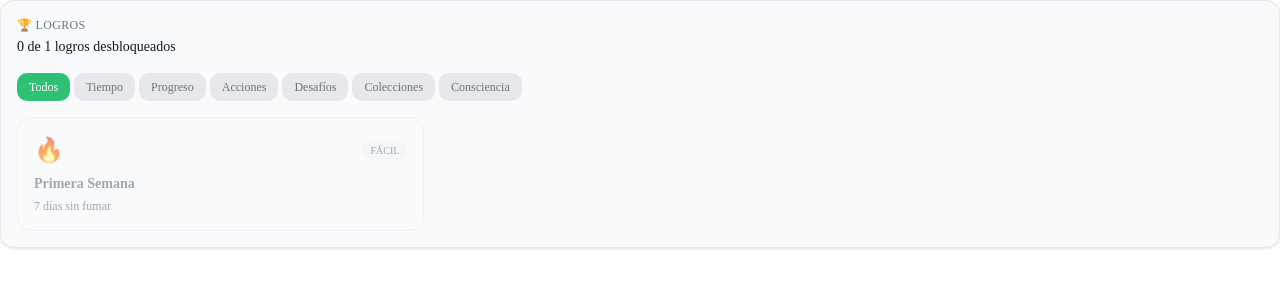
Test: AchievementGallery › shows empty state when no achievements match filter
This screenshot has width=1280, height=284.
# Click on awareness tab
Click the tab "Consciencia" at x=480, y=87, box [439, 73, 522, 101]
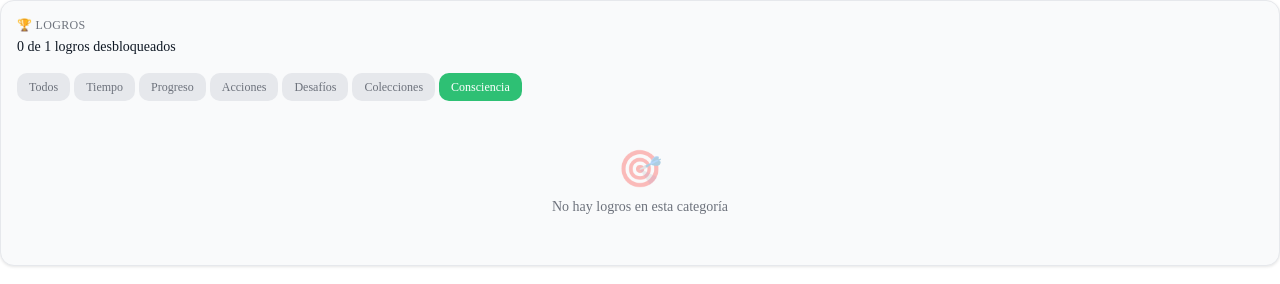
Check: the text "No hay logros en esta categoría" is shown, box [552, 197, 728, 217]
